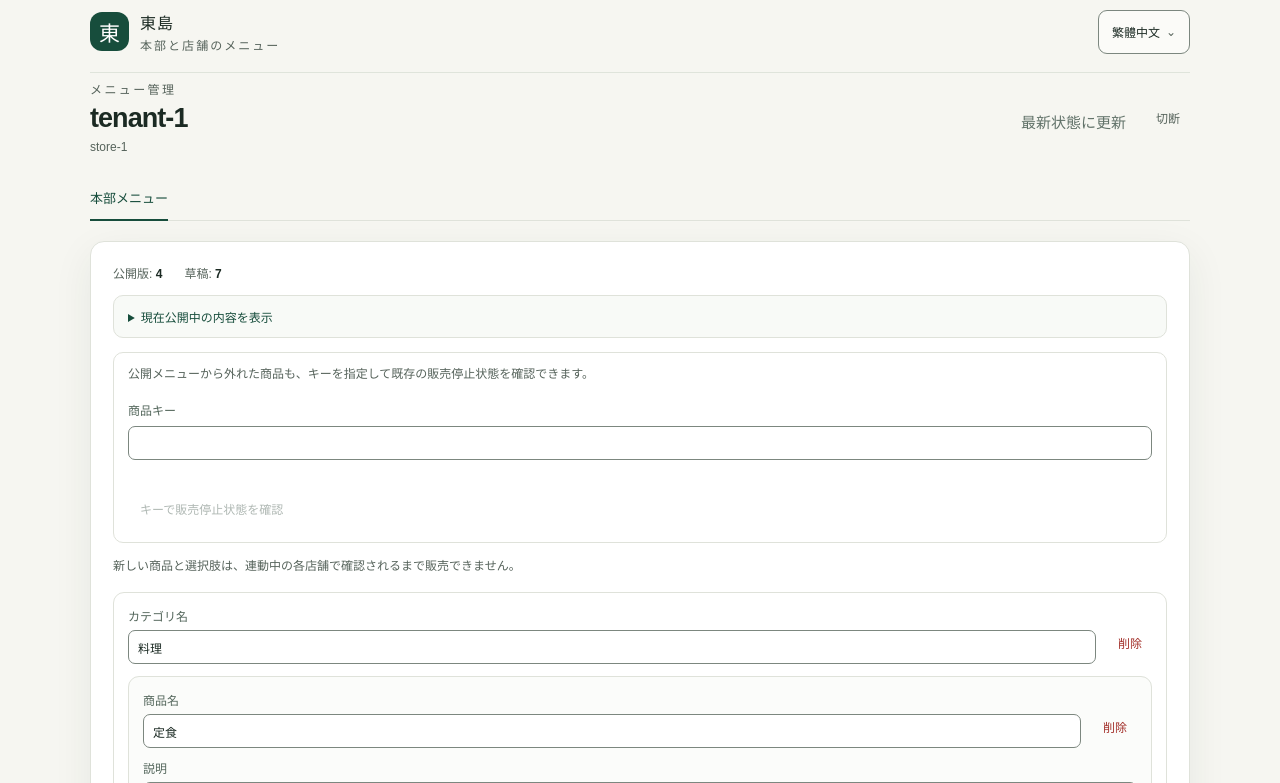
Scenario: catalog admin UI › reloads the current generation after a CAS conflict and does not automatically reapply the stale transition
Expected: the button "切断" is shown, [1146,95,1190,139]
Expected: the button "最新状態に更新" is enabled, [1015,110,1132,132]
Click the heading "現在公開中の内容を表示": (207, 318) [141,311,273,325]
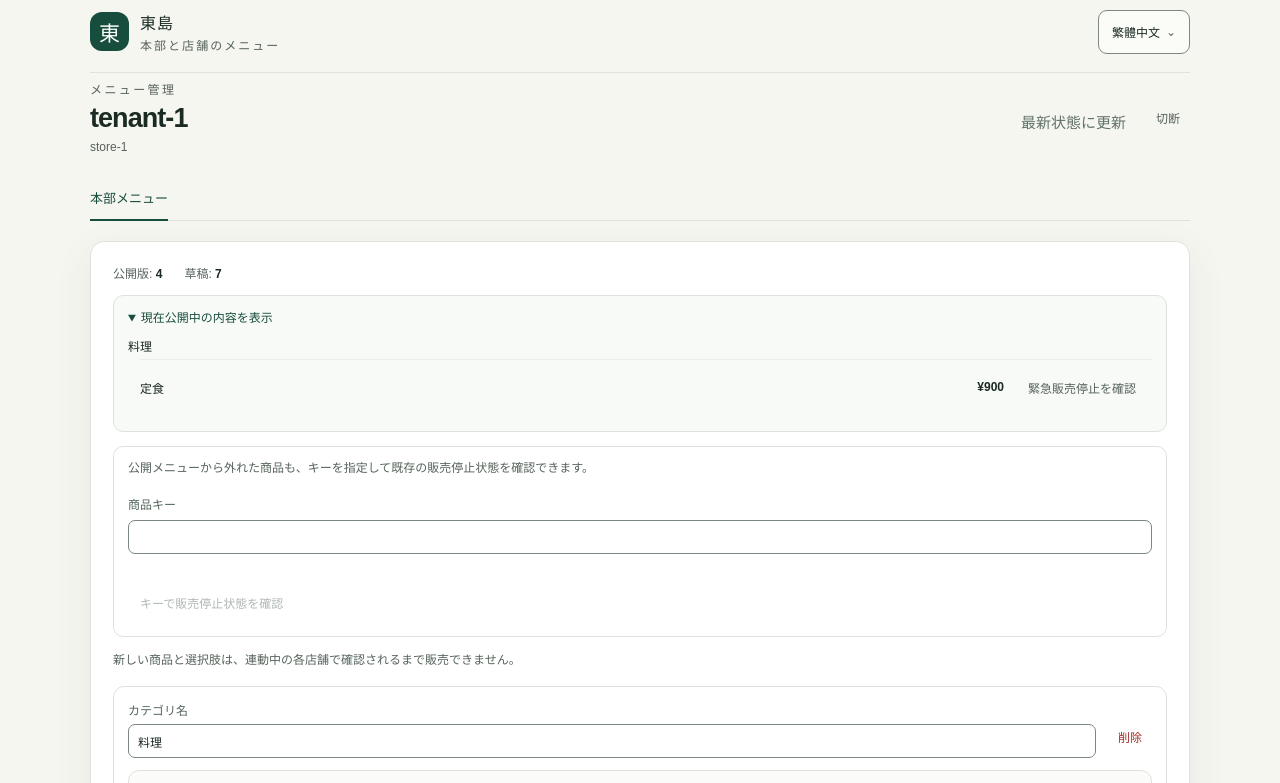
Click the button "緊急販売停止を確認": (1082, 387) [1020,365,1144,409]
(page scrolled)
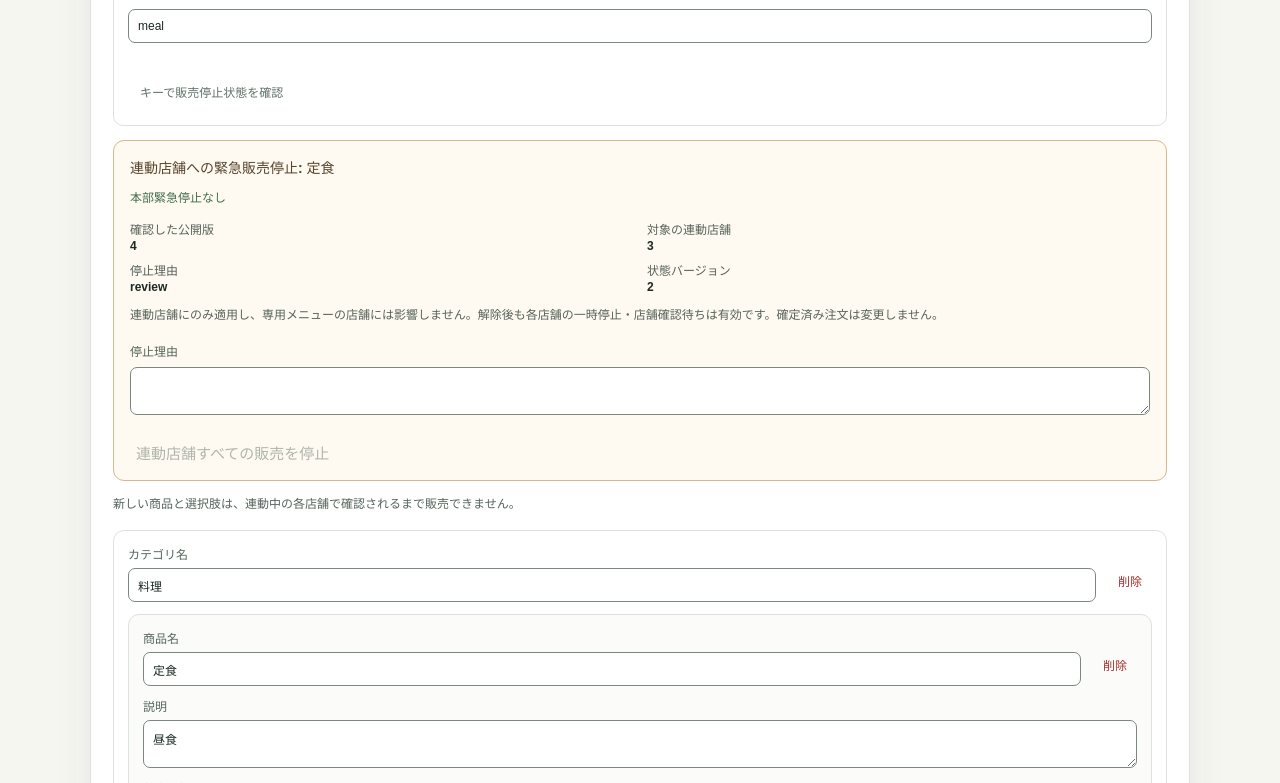
Expected: the text "本部緊急停止なし" is shown, [130,191,226,205]
In the text box labelled "停止理由": (640, 391) [130,367,1150,415], type "再確認"
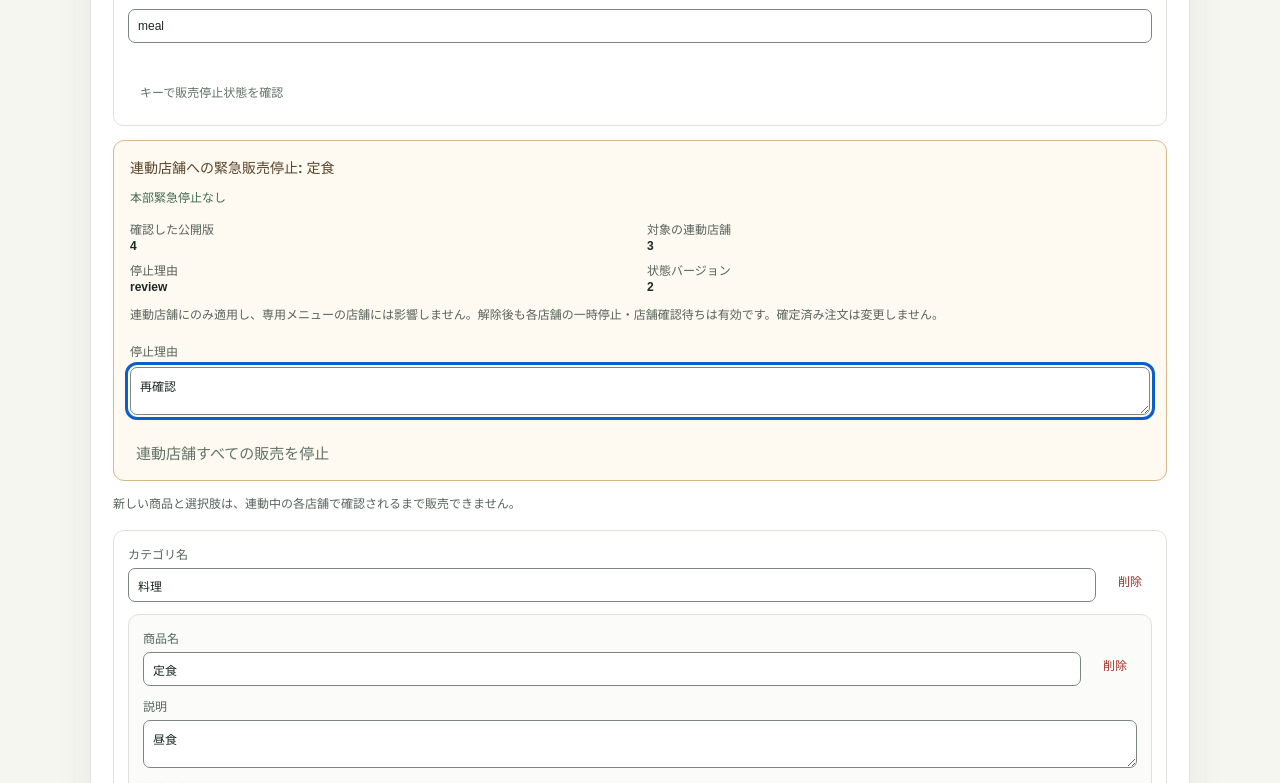
Click the button "連動店舗すべての販売を停止": (233, 453) [130,441,335,464]
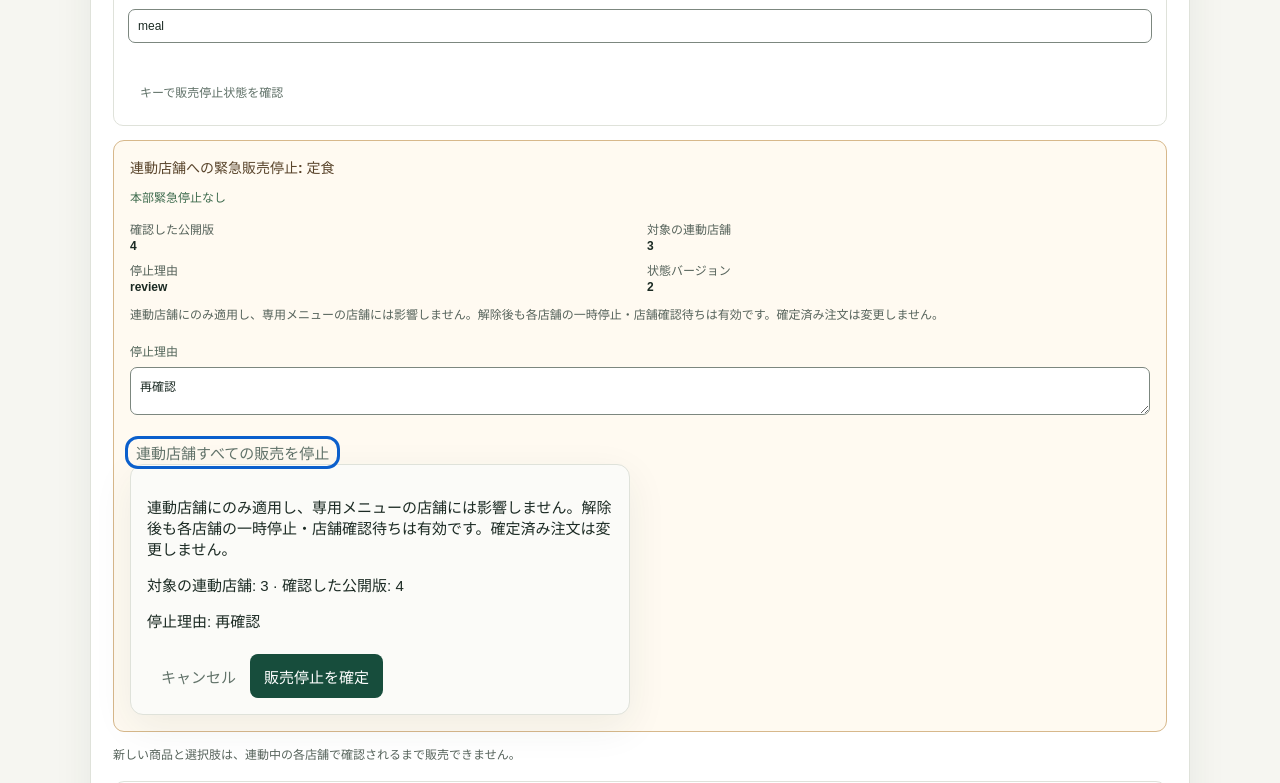
Click the button "販売停止を確定": (316, 676) [250,654,383,698]
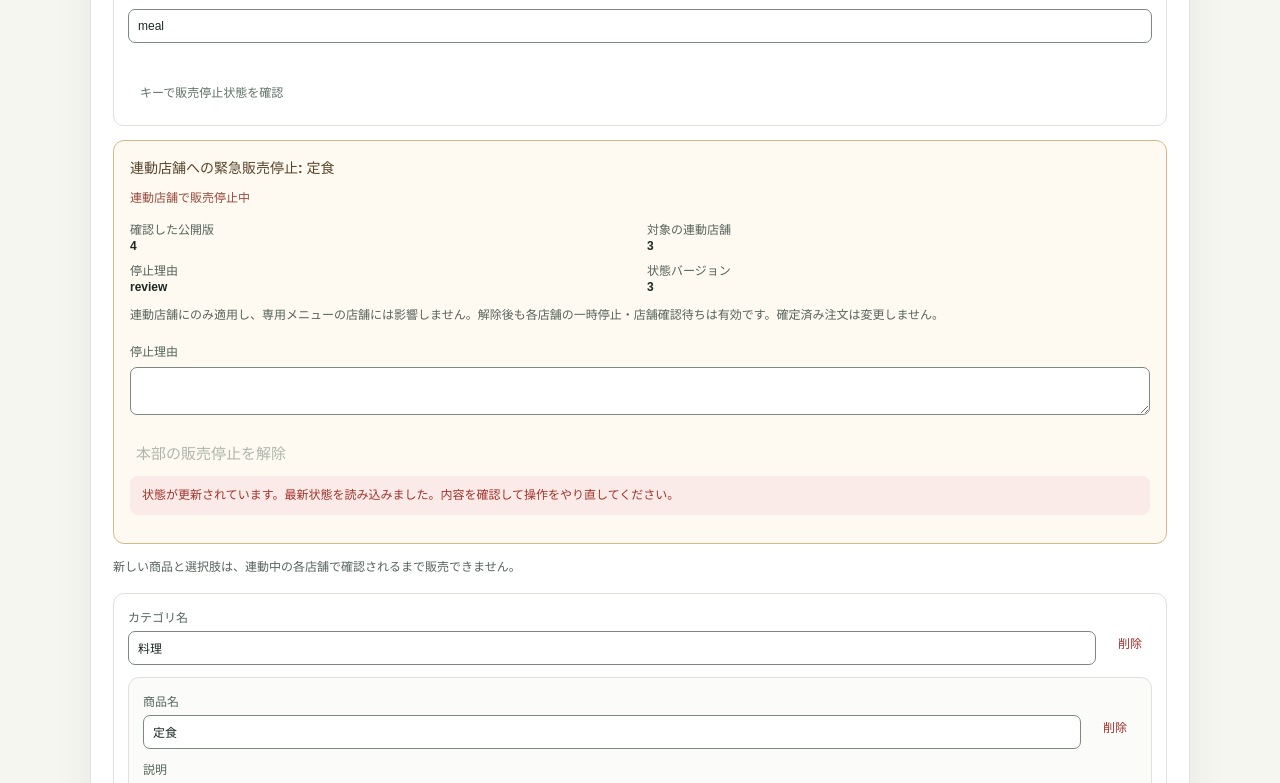
Expected: the text "連動店舗で販売停止中" is shown, [130,191,250,205]
Expected: the message shows "状態が更新されています", [142,488,679,502]
